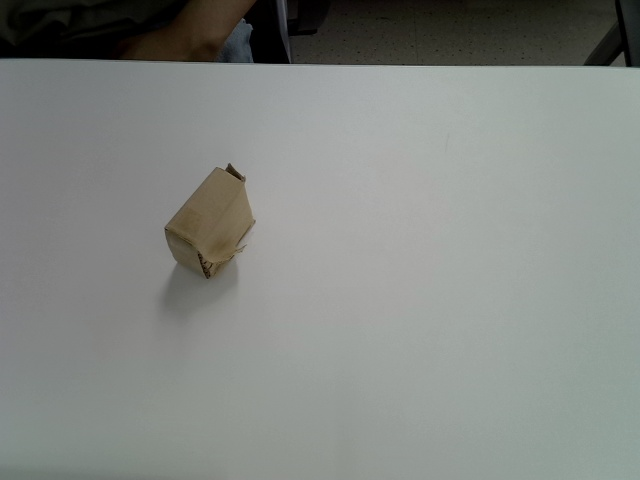defect: (164, 162, 257, 281)
